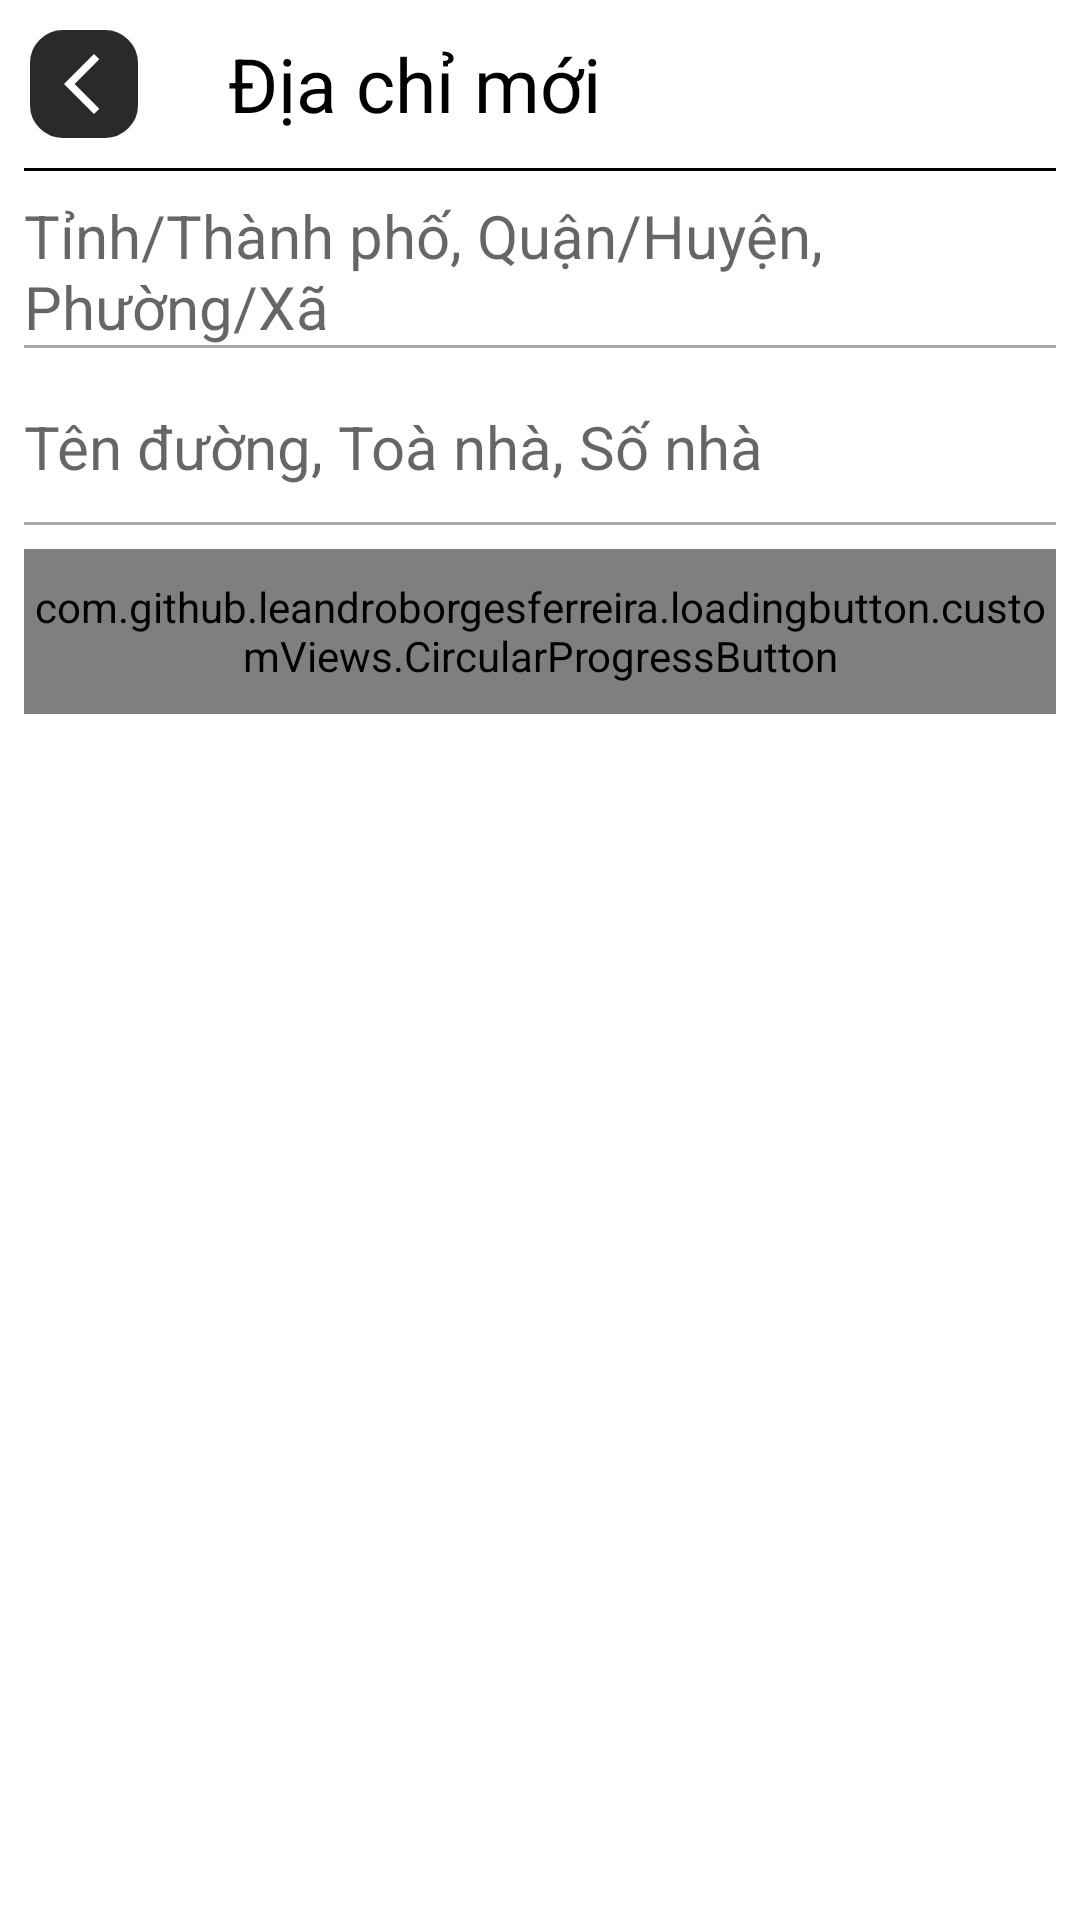

Screen size 1080px×1920px. Icon name, then its center in pixels as (x=x, y=y):
back: (x=81, y=84)
